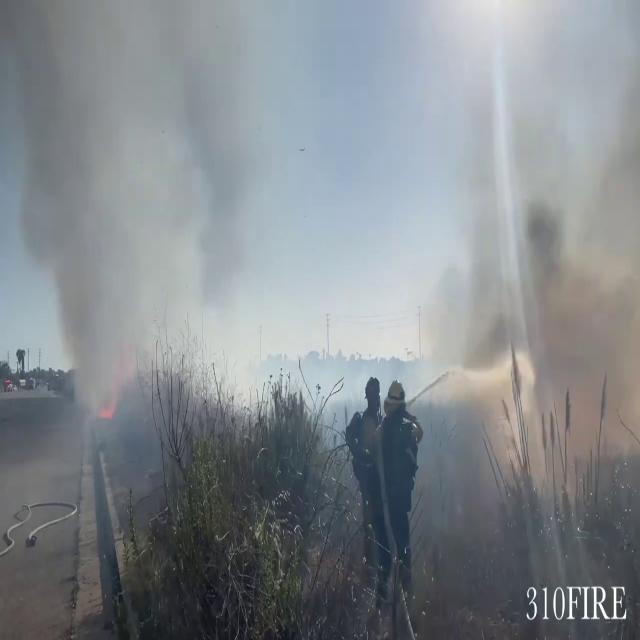Smoke: (0, 0, 294, 458), (405, 16, 640, 510)
